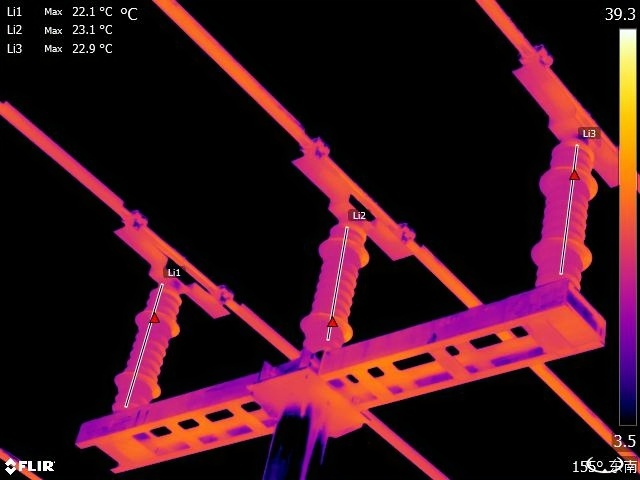post insulator: (520, 133, 614, 297), (296, 206, 374, 358), (103, 279, 186, 419)
